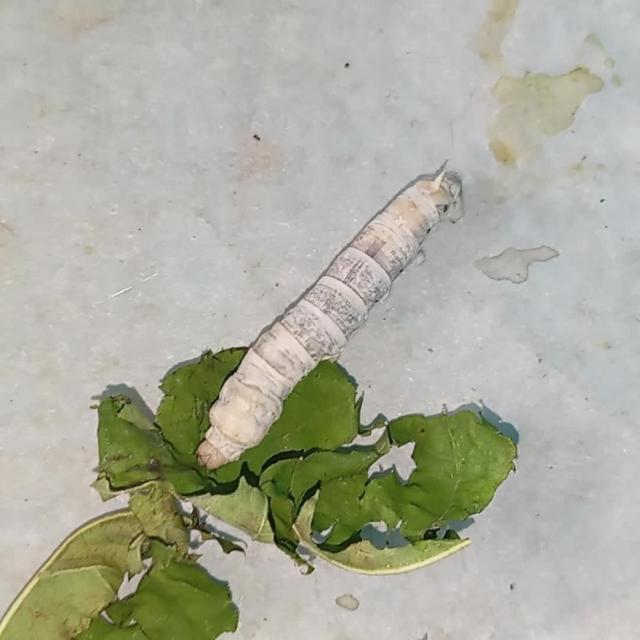Grasserie: (182, 162, 479, 468)
